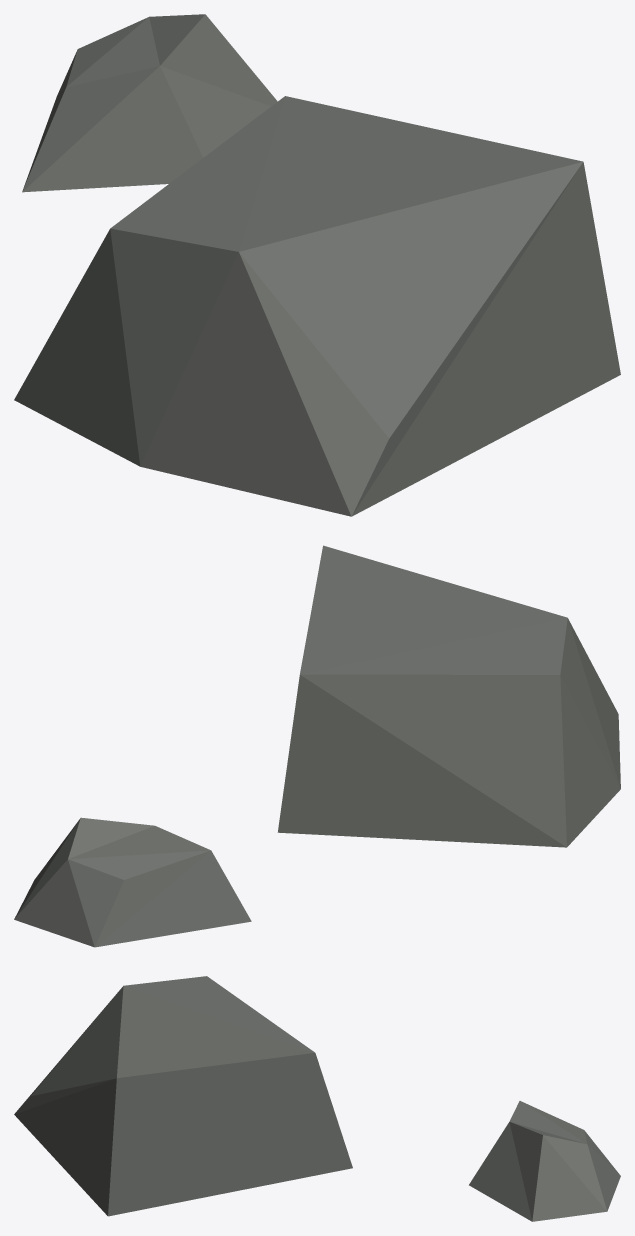
File: Rocks_006.fbx
3 views of the same model, one above another, from view 1: azimuth 30°, elevation 25°; view 2: azimuth 150°, elevation 25°; view 3: azimuth 270°, elevation 25° (orthographic). The views are drawn at different scales.
Parts seen in each view (by area): view 1: Rocks_006; view 2: Rocks_006; view 3: Rocks_006.
Part boxes in pixels (x1,y1,x2,y2): Rocks_006: [14, 14, 620, 516]; Rocks_006: [14, 545, 620, 947]; Rocks_006: [14, 976, 620, 1221].
Bounding box in the file's own units: 15.06 × 6.2 × 26.35.
